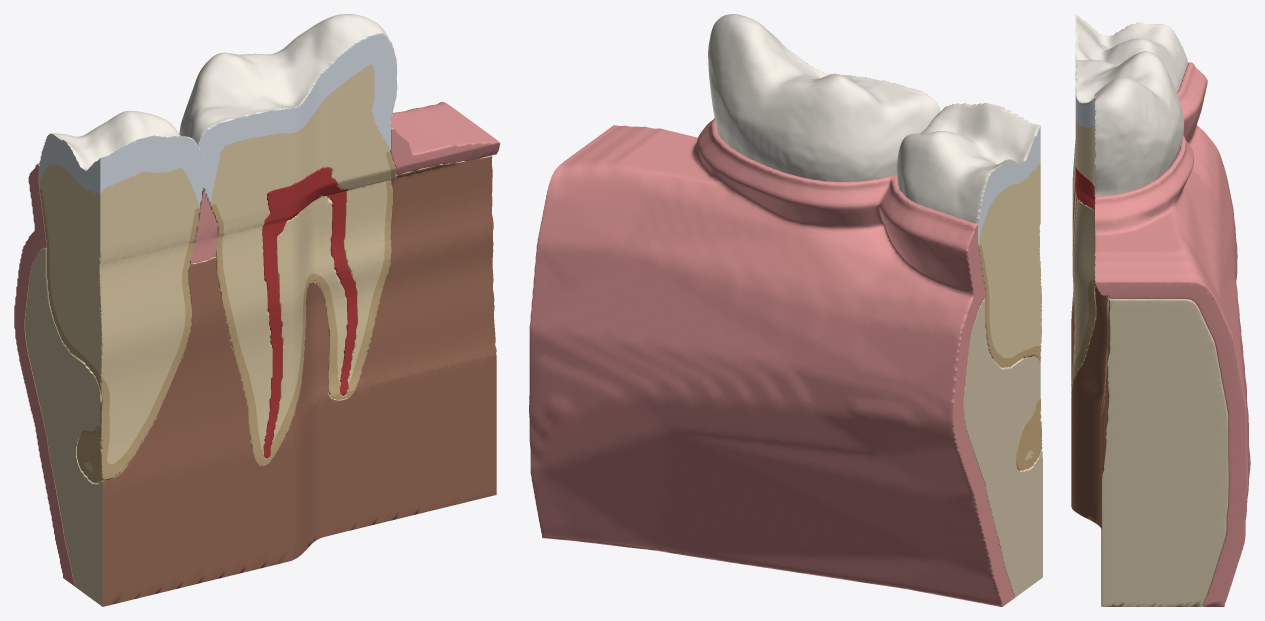
The model's file is sound-cut.glb.
3 views of the same model, side by side, from view 1: azimuth 30°, elevation 25°; view 2: azimuth 150°, elevation 25°; view 3: azimuth 270°, elevation 25° (orthographic). The views are drawn at different scales.
Parts seen in each view (by area): view 1: bone, teeth (×2), gum, pulp; view 2: gum, teeth (×2), bone; view 3: bone, gum, teeth (×2), pulp.
Boxes of the visible parts, <box> form: bone: <box>24,155,496,606</box>; teeth (×2): <box>38,14,397,483</box>; gum: <box>14,102,500,586</box>; pulp: <box>262,167,357,458</box>; gum: <box>529,118,1014,606</box>; teeth (×2): <box>708,14,1042,470</box>; bone: <box>963,298,1042,597</box>; bone: <box>1071,179,1228,606</box>; gum: <box>1094,62,1250,606</box>; teeth (×2): <box>1071,14,1187,415</box>; pulp: <box>1071,166,1107,411</box>.
Bounding box in the file's own units: 23.45 × 27.65 × 9.67.
